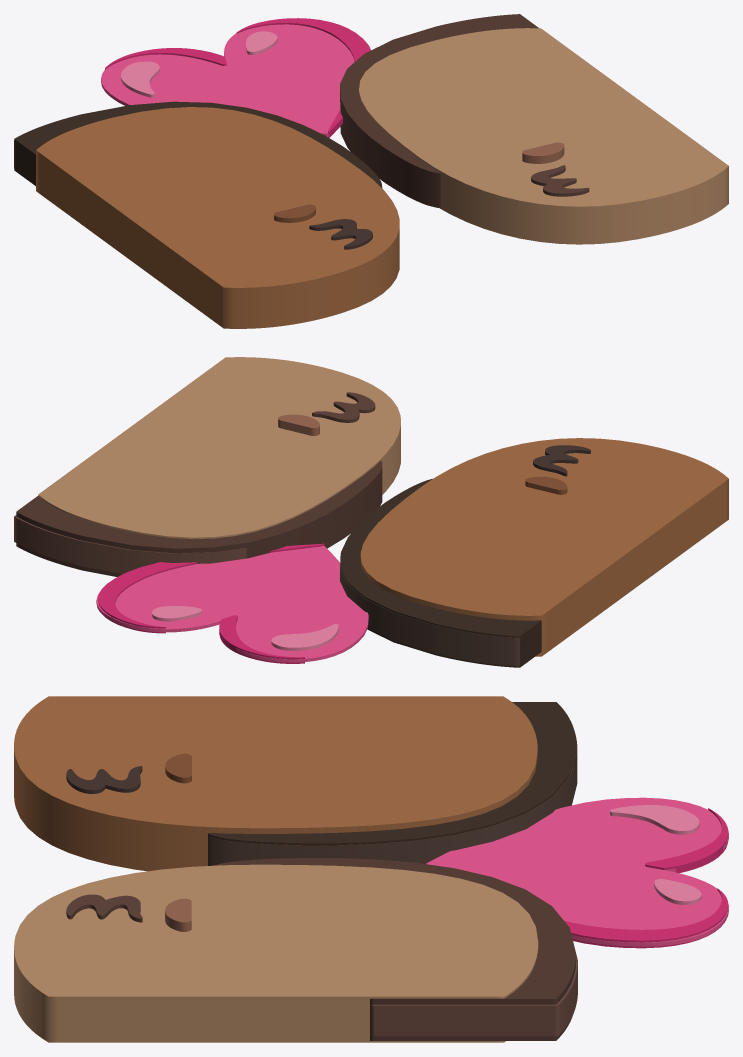
Rendered from emoji_u1f468_1f3fe_200d_2764_200d_1f48b_200d_1f468_1f3fd.glb.
The picture shows the model from 3 angles, top to bottom: view 1: azimuth 30°, elevation 25°; view 2: azimuth 150°, elevation 25°; view 3: azimuth 270°, elevation 25°; orthographic projection. The views are drawn at different scales.
Visible parts, largest first — view 1: emoji_u1f468_1f3fe_200d_2764_200d_1f48b_200d_1f468_1f3fd; view 2: emoji_u1f468_1f3fe_200d_2764_200d_1f48b_200d_1f468_1f3fd; view 3: emoji_u1f468_1f3fe_200d_2764_200d_1f48b_200d_1f468_1f3fd.
Boxes of the visible parts, <box> form: emoji_u1f468_1f3fe_200d_2764_200d_1f48b_200d_1f468_1f3fd: <box>14,14,728,328</box>; emoji_u1f468_1f3fe_200d_2764_200d_1f48b_200d_1f468_1f3fd: <box>14,357,728,667</box>; emoji_u1f468_1f3fe_200d_2764_200d_1f48b_200d_1f468_1f3fd: <box>14,696,728,1042</box>.
Size of the model in its own units: 0.0336 by 0.0034 by 0.0339.
